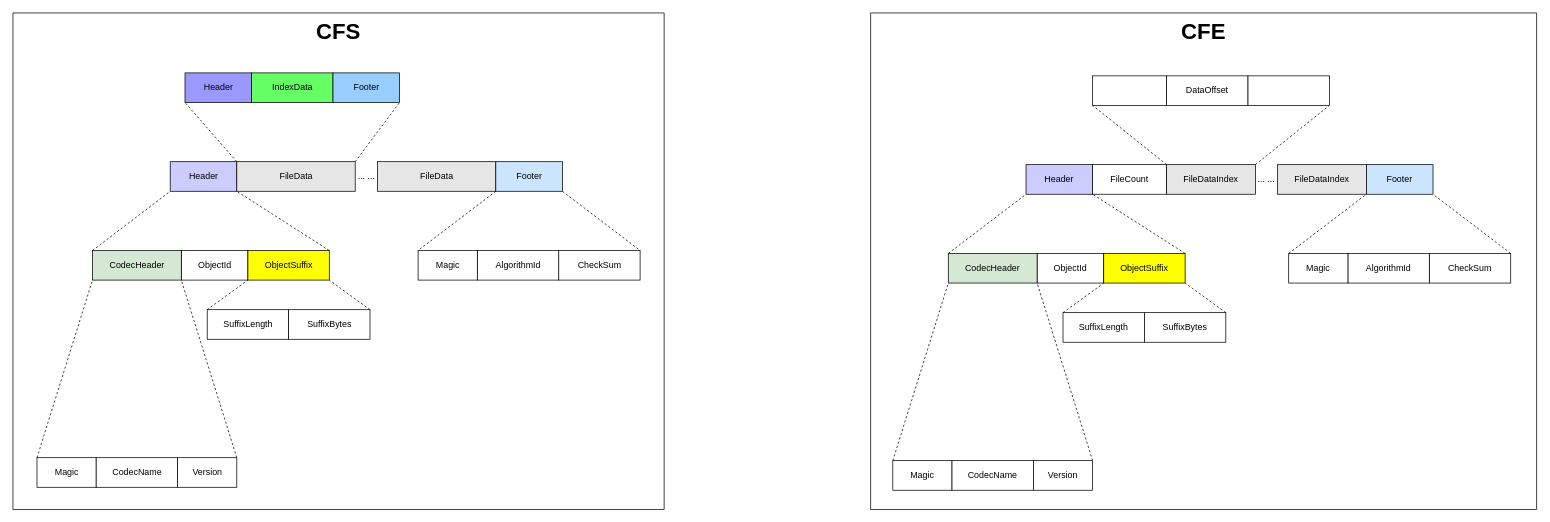
The diagram is 1550 pixels wide and 522 high, and some of its shapes have lost their labels. Here are the shapes that lost their labels. From the top down, the centre of each, then its label:
At (1129,90): "FileName".
At (1288,90): "DataLength".
